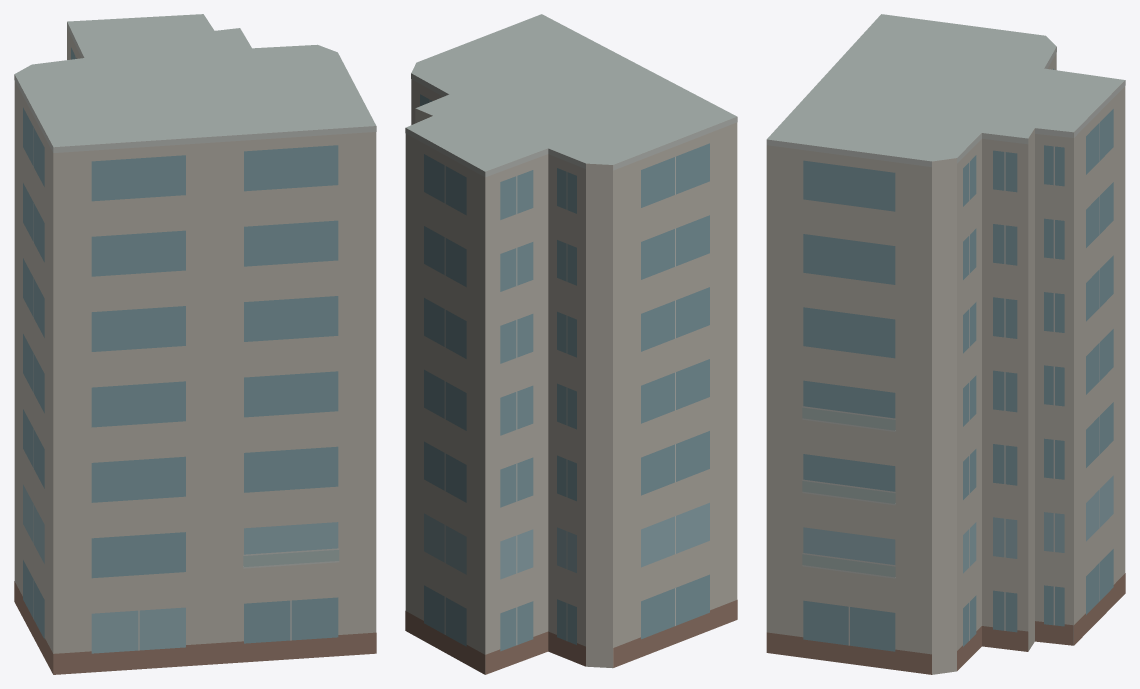
File: survey-upis-32942565.glb
The picture shows the model from 3 angles, left to right: view 1: azimuth 30°, elevation 25°; view 2: azimuth 150°, elevation 25°; view 3: azimuth 270°, elevation 25°; orthographic projection. The views are drawn at different scales.
Visible parts, largest first — view 1: survey-upis-32942565.tmp; view 2: survey-upis-32942565.tmp; view 3: survey-upis-32942565.tmp.
Part boxes in pixels (x1,y1,x2,y2): survey-upis-32942565.tmp: [14, 14, 376, 674]; survey-upis-32942565.tmp: [405, 14, 737, 674]; survey-upis-32942565.tmp: [766, 14, 1125, 674].
Bounding box in the file's own units: 13.38 × 21.7 × 13.75.
